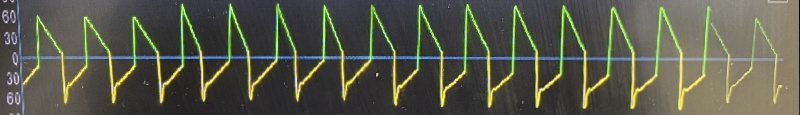peepi: (23, 0, 784, 113)
